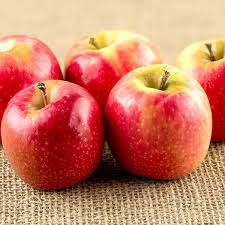apple: (109, 72, 218, 178), (8, 88, 102, 182), (70, 29, 170, 111), (1, 35, 66, 118), (178, 39, 225, 137)
